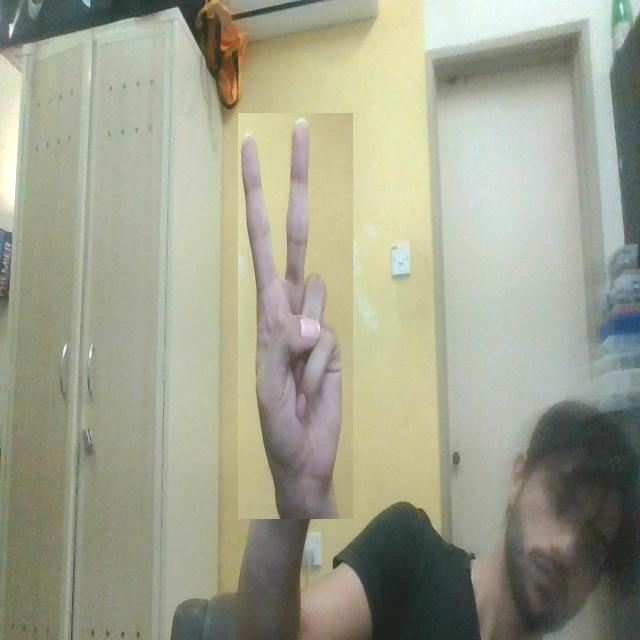peace: (238, 113, 353, 519)
